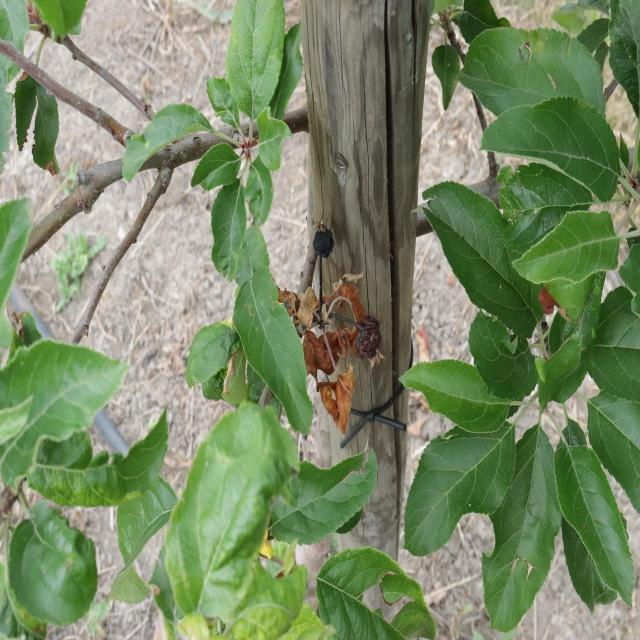-FireBlight-: (282, 279, 379, 431)
